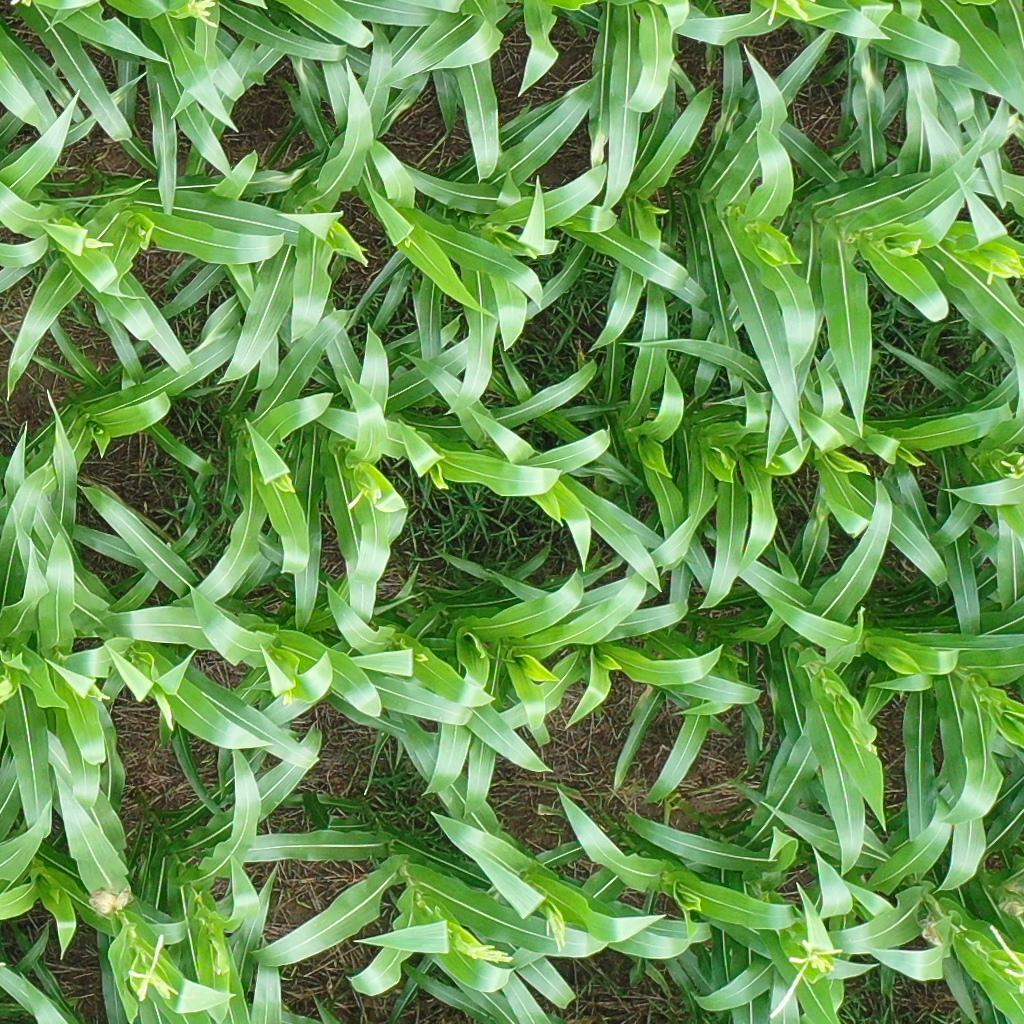Tassel: (770, 937, 844, 1018), (122, 931, 181, 1004), (989, 926, 1024, 996), (448, 933, 514, 966), (982, 246, 1023, 287), (539, 901, 571, 953), (759, 1, 821, 25), (180, 1, 221, 30), (346, 476, 380, 510), (209, 943, 231, 977), (86, 680, 110, 703), (1000, 455, 1023, 477), (906, 234, 924, 256), (864, 741, 882, 761), (280, 690, 295, 708)
